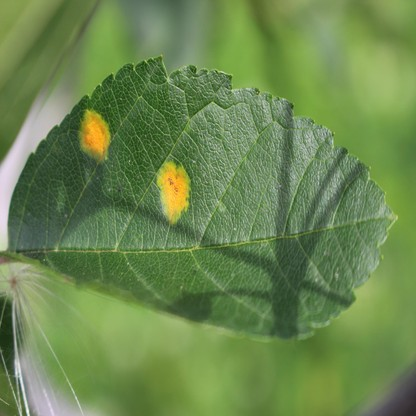rust: (158, 159, 190, 222), (80, 108, 111, 159)
